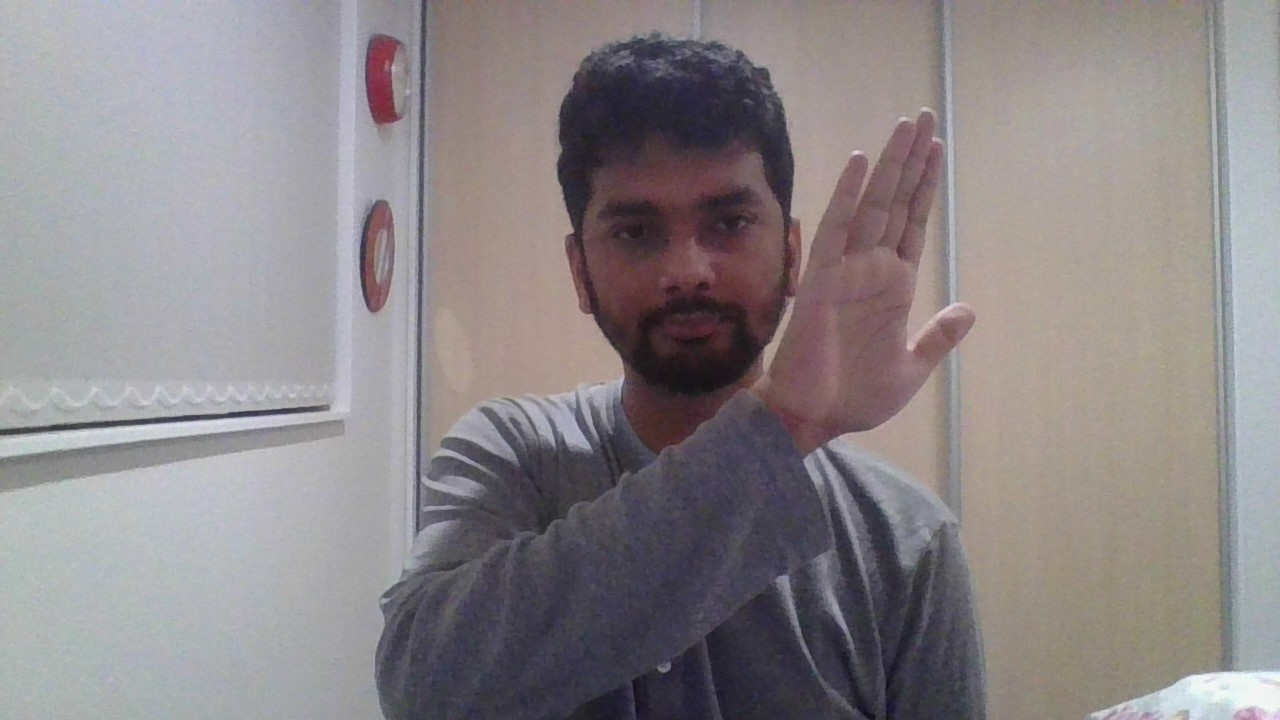hello: (766, 108, 975, 433)
